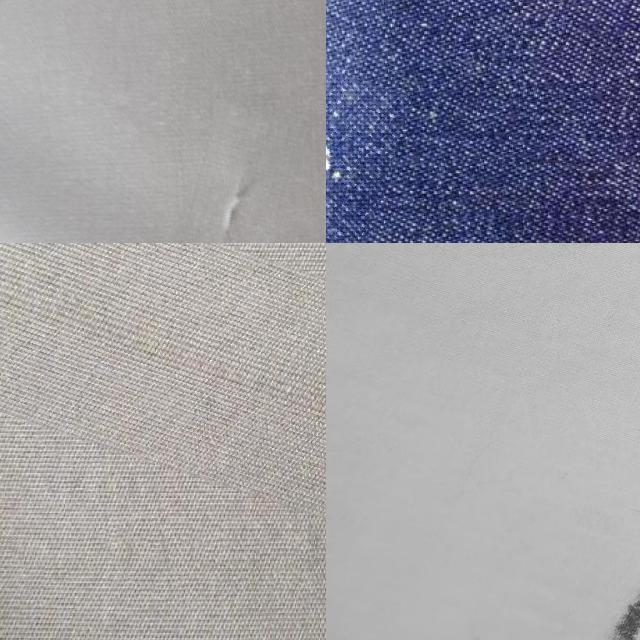Thread_other: (326, 243, 640, 640), (580, 492, 640, 640)
stains: (0, 243, 326, 521), (159, 102, 294, 243), (326, 69, 401, 243)
